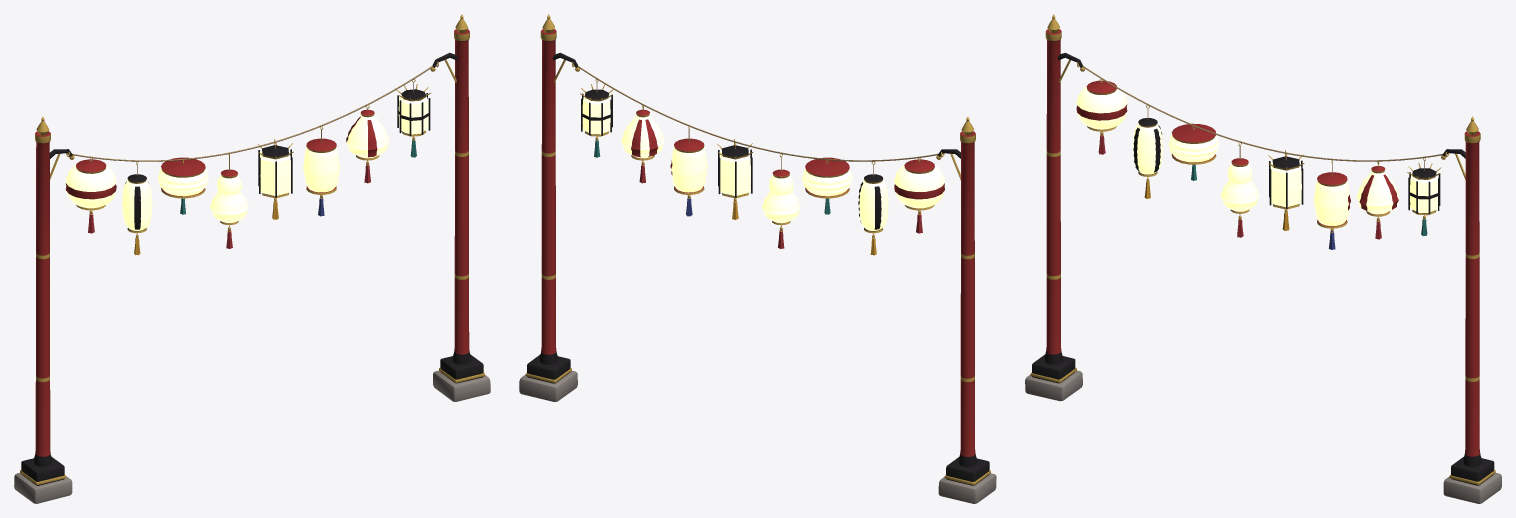
Rendered from deco_lantern_string.fbx.
The picture shows the model from 3 angles, left to right: view 1: azimuth 30°, elevation 25°; view 2: azimuth 150°, elevation 25°; view 3: azimuth 330°, elevation 25°; orthographic projection.
Visible parts, largest first — view 1: LanternString_Poles, LanternString_LanternGlobe, LanternString_LanternBarrel, LanternString_LanternHex, LanternString_LanternDrum, LanternString_LanternOnion, LanternString_LanternCapsule, LanternString_LanternGourd, LanternString_LanternOcta, LanternString_Line; view 2: LanternString_Poles, LanternString_LanternGlobe, LanternString_LanternBarrel, LanternString_LanternHex, LanternString_LanternDrum, LanternString_LanternOnion, LanternString_LanternCapsule, LanternString_LanternGourd, LanternString_LanternOcta, LanternString_Line; view 3: LanternString_Poles, LanternString_LanternGlobe, LanternString_LanternBarrel, LanternString_LanternHex, LanternString_LanternDrum, LanternString_LanternOnion, LanternString_LanternGourd, LanternString_LanternCapsule, LanternString_LanternOcta, LanternString_Line.
Boxes of the visible parts, bbox=[...] form: LanternString_Poles: bbox=[14, 14, 490, 503]; LanternString_LanternGlobe: bbox=[65, 158, 116, 233]; LanternString_LanternBarrel: bbox=[303, 126, 340, 216]; LanternString_LanternHex: bbox=[257, 139, 293, 219]; LanternString_LanternDrum: bbox=[157, 157, 208, 214]; LanternString_LanternOnion: bbox=[346, 105, 389, 183]; LanternString_LanternCapsule: bbox=[122, 161, 152, 255]; LanternString_LanternGourd: bbox=[210, 154, 248, 248]; LanternString_LanternOcta: bbox=[396, 79, 430, 157]; LanternString_Line: bbox=[66, 62, 438, 161]; LanternString_Poles: bbox=[519, 14, 996, 503]; LanternString_LanternGlobe: bbox=[894, 158, 944, 233]; LanternString_LanternBarrel: bbox=[670, 126, 707, 216]; LanternString_LanternHex: bbox=[717, 139, 753, 219]; LanternString_LanternDrum: bbox=[802, 157, 852, 214]; LanternString_LanternOnion: bbox=[621, 105, 664, 183]; LanternString_LanternCapsule: bbox=[858, 161, 888, 255]; LanternString_LanternGourd: bbox=[762, 154, 800, 248]; LanternString_LanternOcta: bbox=[580, 79, 613, 157]; LanternString_Line: bbox=[572, 62, 944, 161]; LanternString_Poles: bbox=[1025, 14, 1501, 503]; LanternString_LanternGlobe: bbox=[1076, 79, 1127, 154]; LanternString_LanternBarrel: bbox=[1313, 160, 1350, 249]; LanternString_LanternHex: bbox=[1268, 150, 1304, 230]; LanternString_LanternDrum: bbox=[1168, 123, 1219, 180]; LanternString_LanternOnion: bbox=[1356, 161, 1399, 239]; LanternString_LanternGourd: bbox=[1221, 142, 1259, 237]; LanternString_LanternCapsule: bbox=[1132, 105, 1163, 198]; LanternString_LanternOcta: bbox=[1407, 158, 1441, 235]; LanternString_Line: bbox=[1077, 62, 1449, 161].
Size of the model in its own units: 546 by 430 by 53.1.
